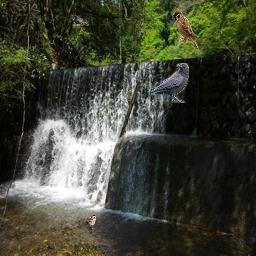Crow: (151, 63, 189, 103), (70, 15, 89, 26)
Sparrow: (172, 10, 199, 50), (79, 215, 96, 230)
